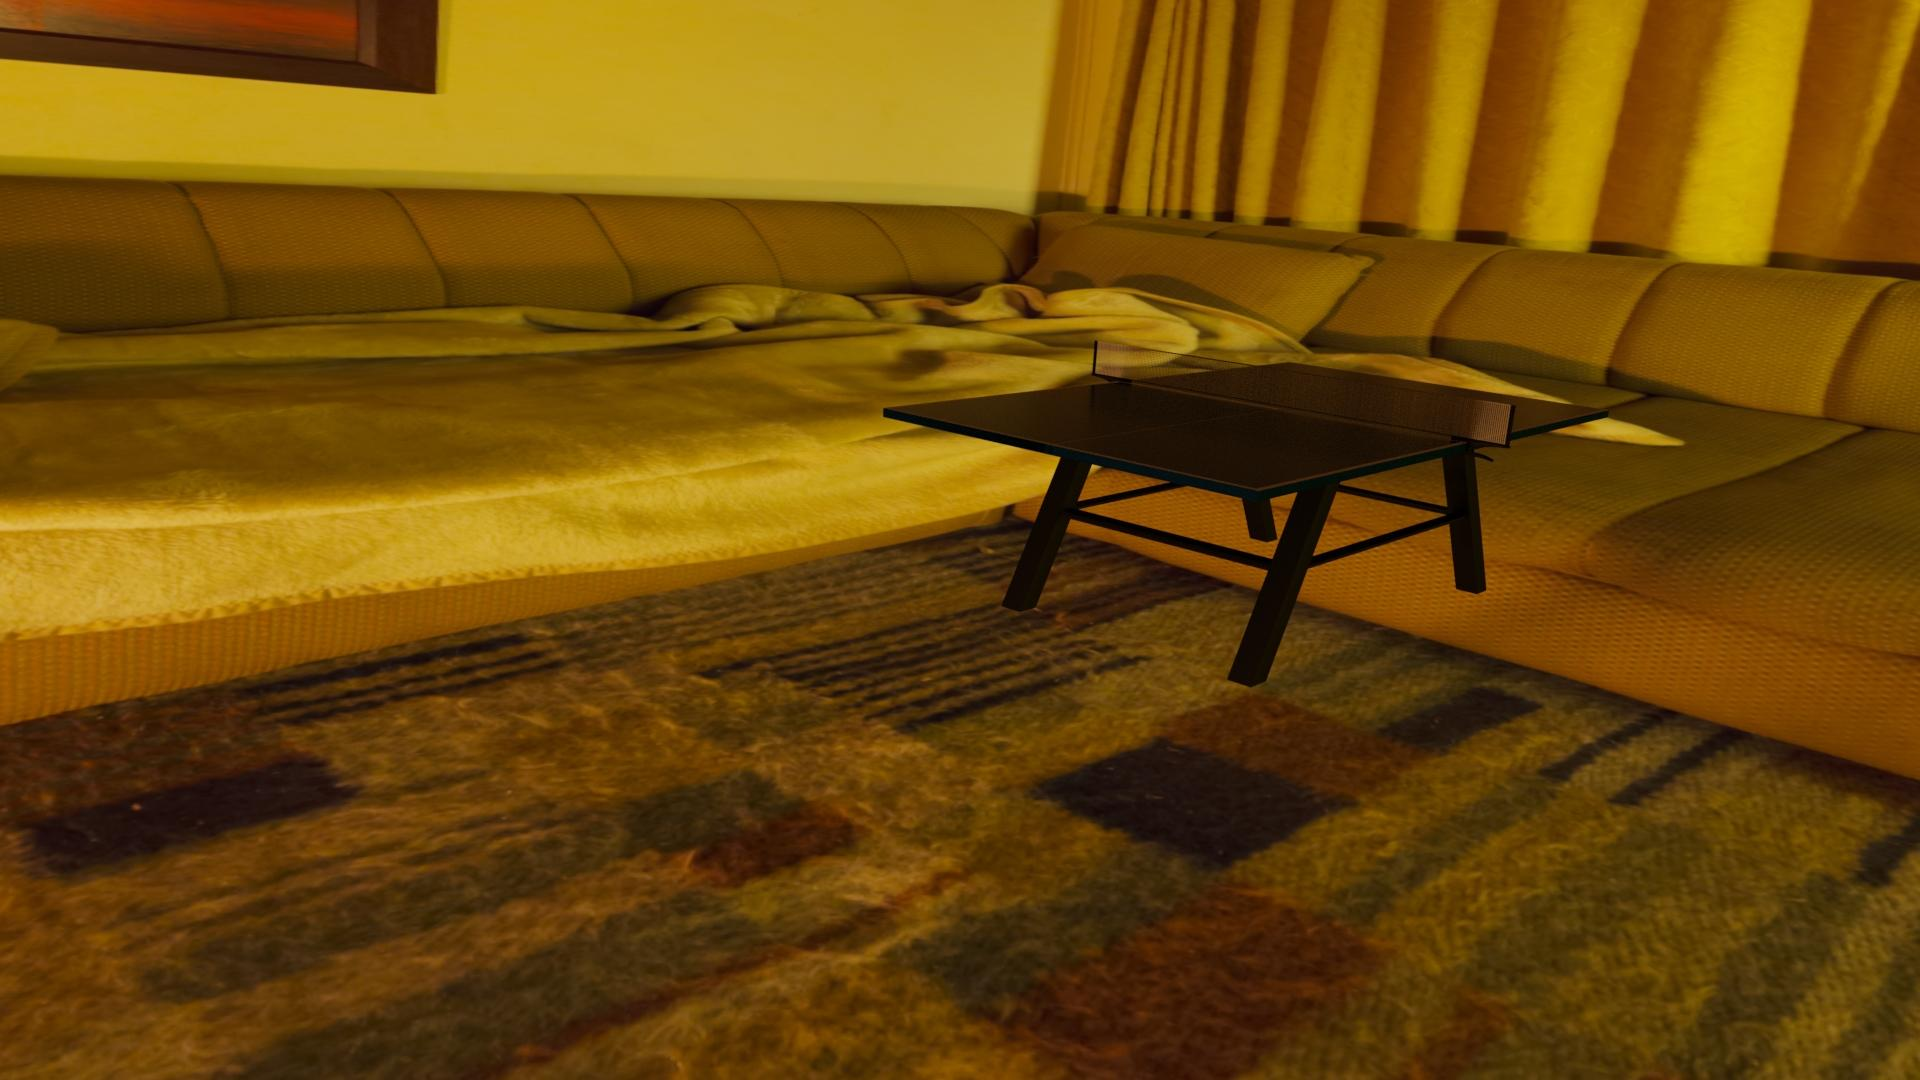table: (890, 363, 1604, 489)
